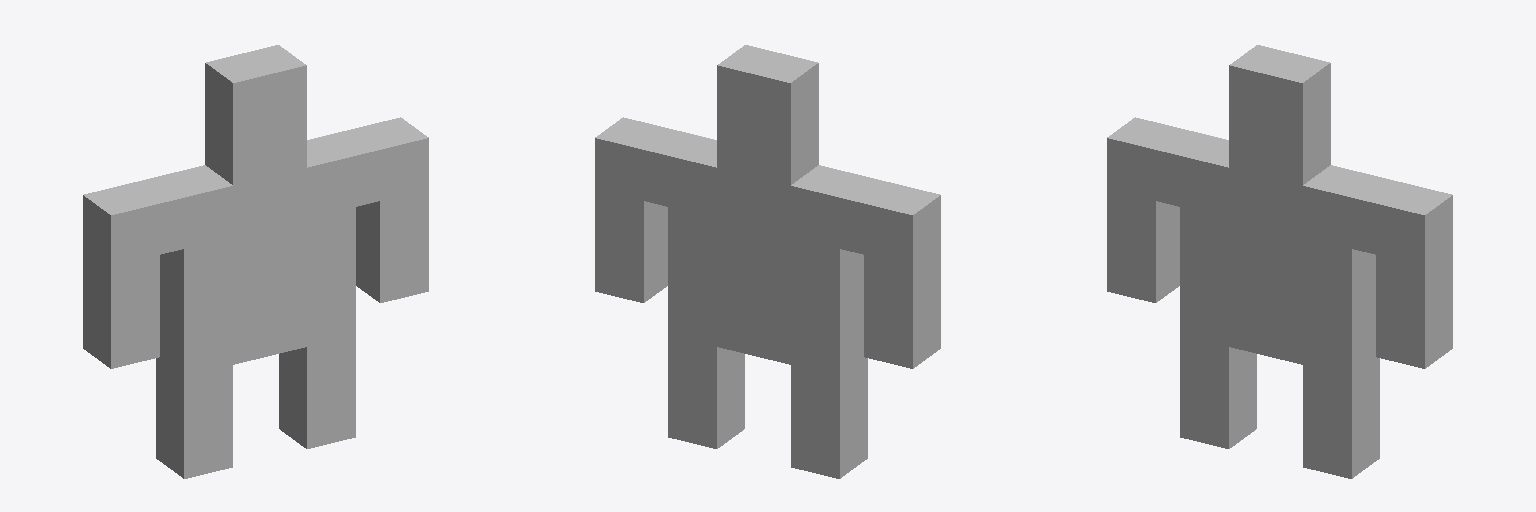
The model's file is Visitor - 1 - Man.obj.
3 renders of one model, left to right at view 1: azimuth 30°, elevation 25°; view 2: azimuth 150°, elevation 25°; view 3: azimuth 330°, elevation 25°, orthographic.
Parts seen in each view (by area): view 1: ObjObject; view 2: ObjObject; view 3: ObjObject.
Boxes of the visible parts, <box> form: ObjObject: <box>83,45,428,478</box>; ObjObject: <box>595,45,940,478</box>; ObjObject: <box>1107,45,1452,478</box>.
Size of the model in its own units: 1.3 by 1.5 by 0.2.